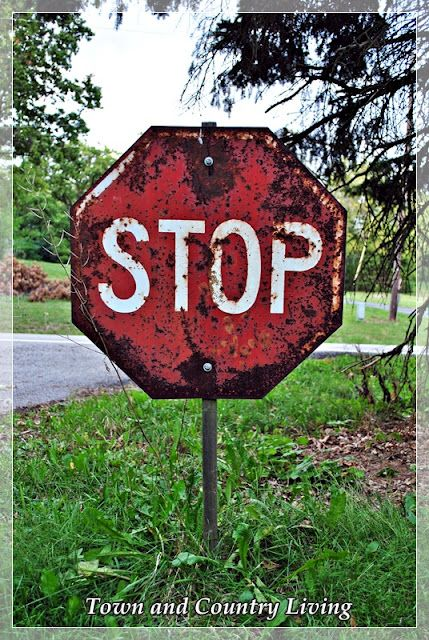stop: (59, 115, 361, 417)
